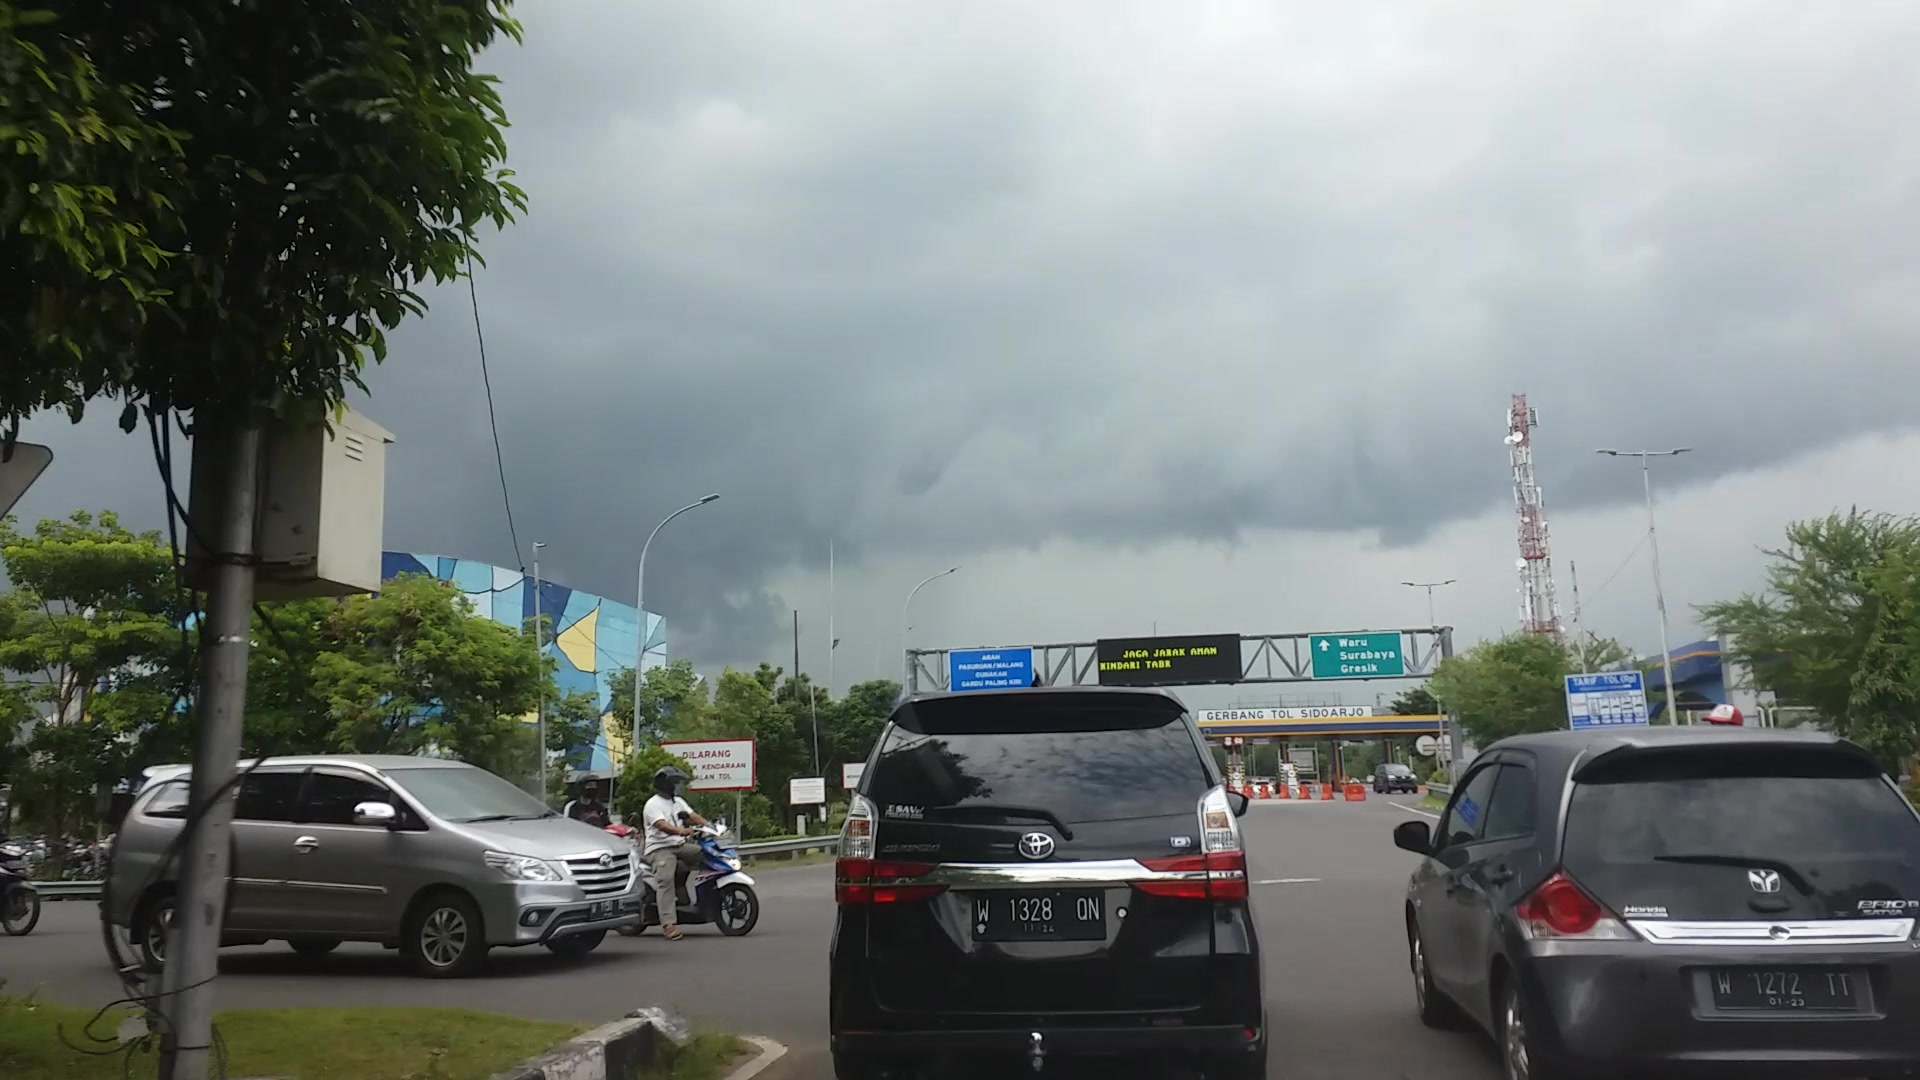plate_positive: (972, 890, 1106, 942), (1712, 968, 1857, 1011)
